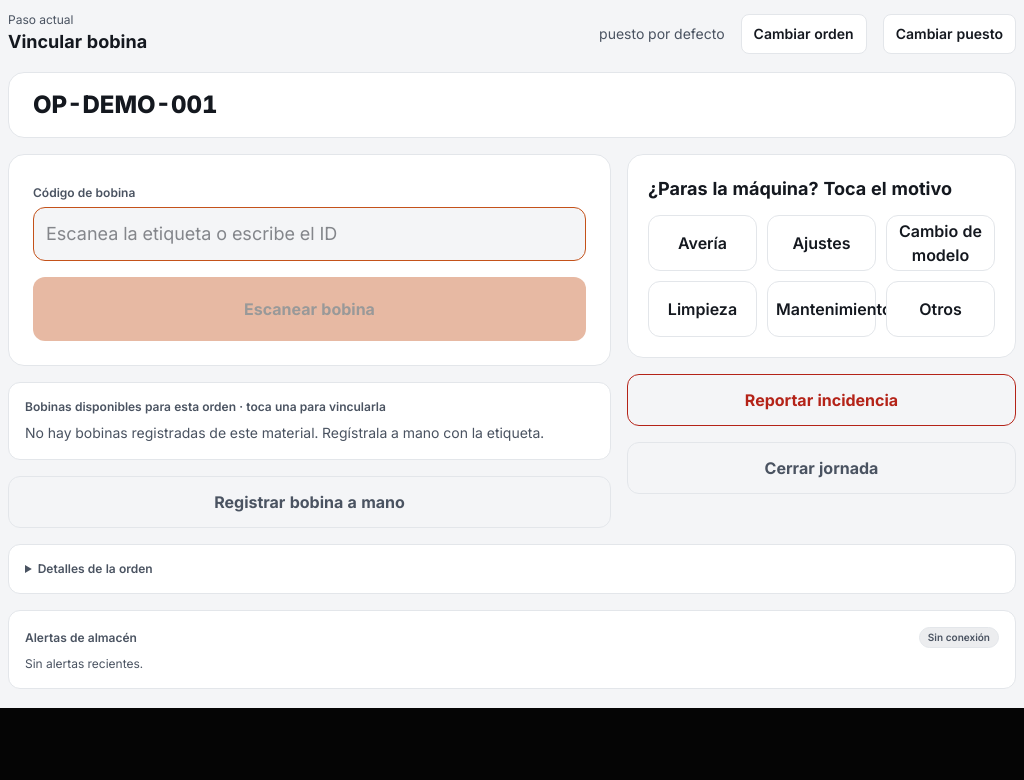
Panel de Operario (directriz no abrumar) › el numpad táctil rellena piezas y registra producción
Type "COIL-L-DEMO" into the field with placeholder "Escanea la etiqueta o escribe el ID" at (310, 234), box [33, 207, 586, 261]
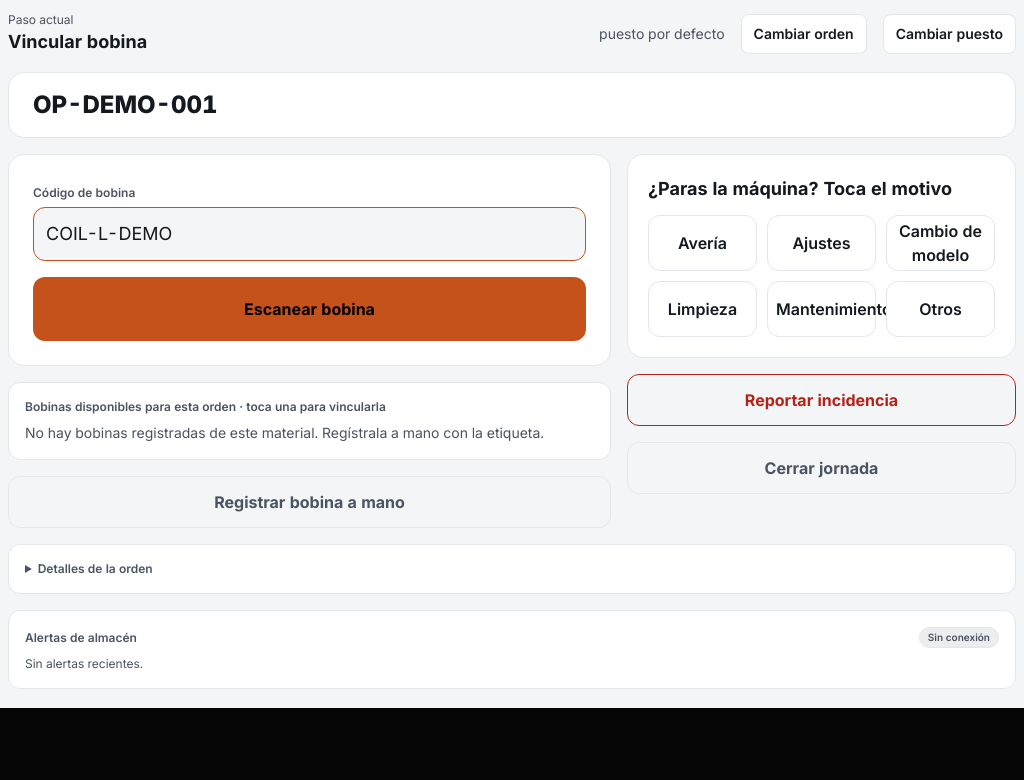
Click the button "Escanear bobina" at (310, 309), box [33, 277, 586, 341]
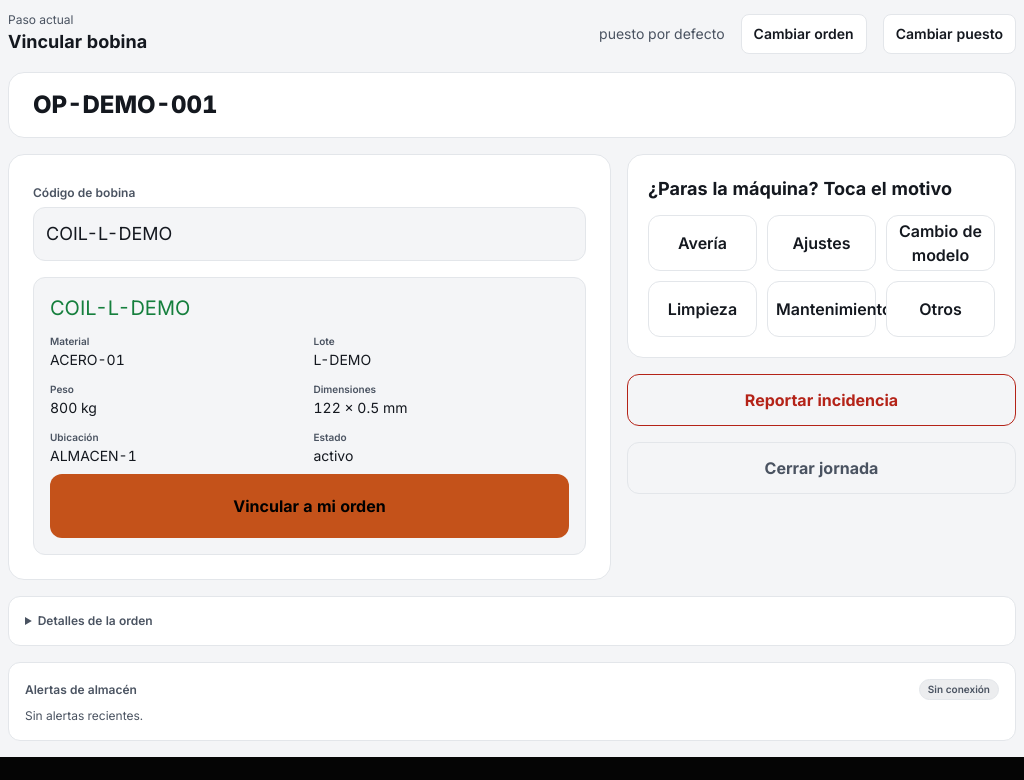
Click the button "Vincular a mi orden" at (310, 506), box [50, 474, 569, 538]
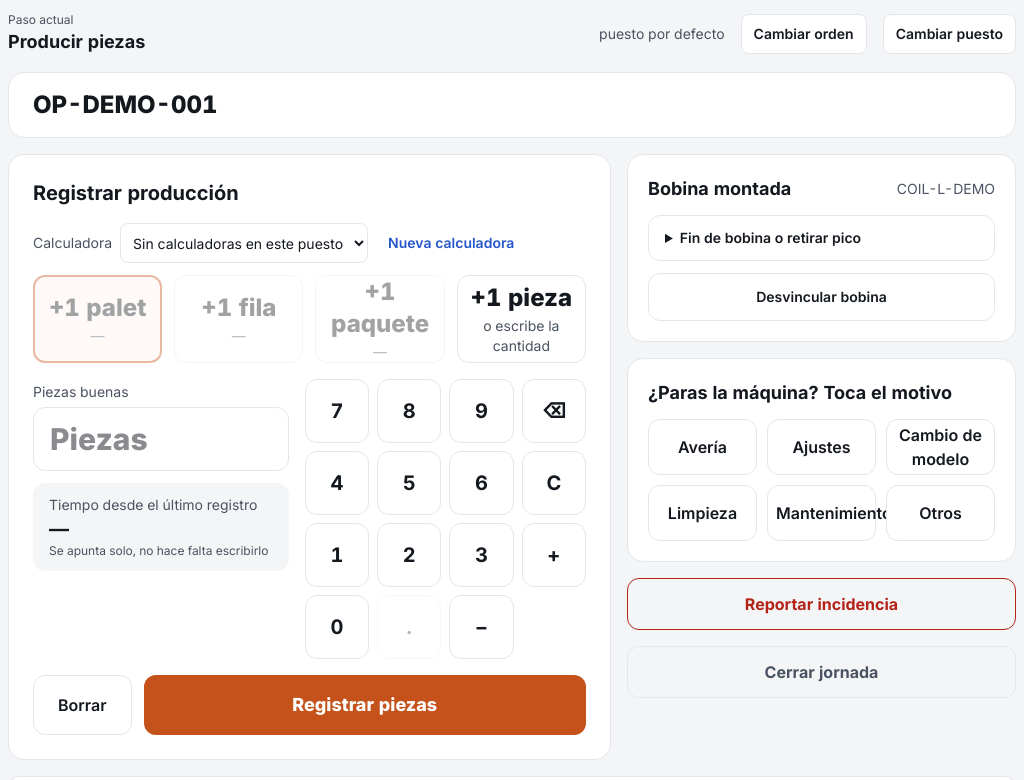
Click the button "7" at (337, 411), box [305, 379, 369, 443]
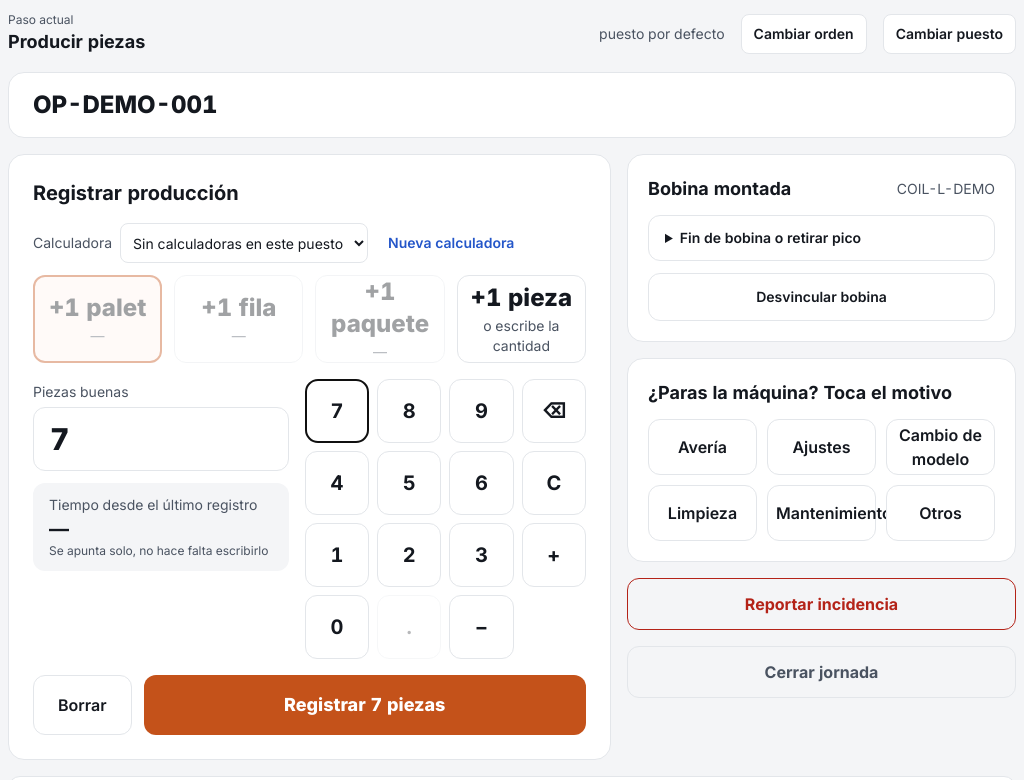
Click the button "5" at (409, 483), box [377, 451, 441, 515]
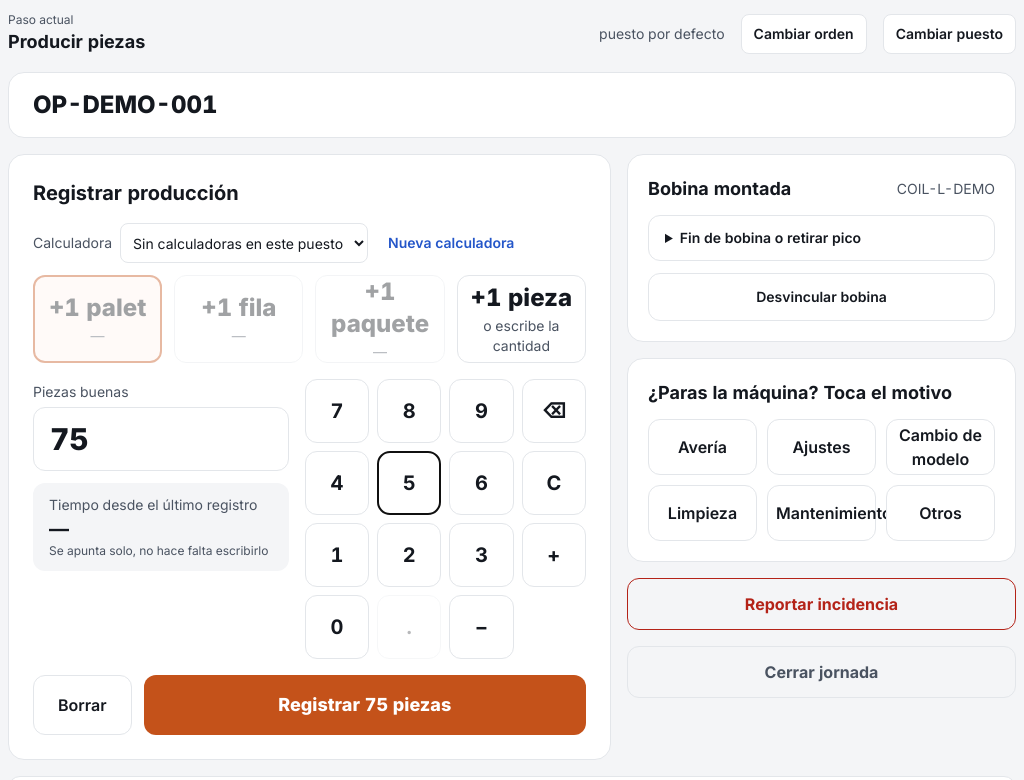
Check: the number field with placeholder "Piezas" holds "75", box [33, 407, 289, 471]
Click the button "Registrar 75 piezas" at (365, 705), box [144, 675, 586, 735]
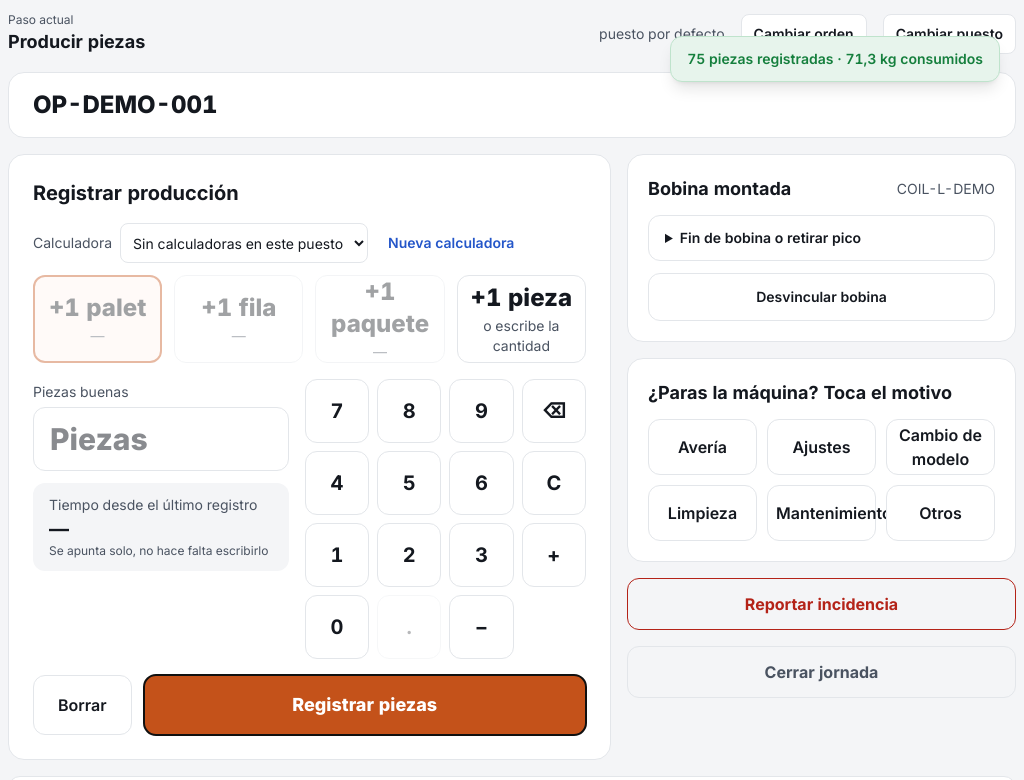
Check: the text "75 piezas registradas · 71,3 kg consumidos" is shown, box [670, 36, 1000, 82]
